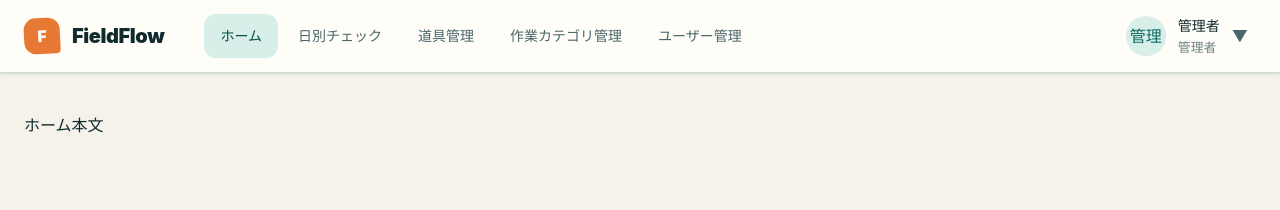
Test: AppLayout › アカウント項目の選択後に閉じ、パスワード変更へ移動する
Click the button with aria-label "アカウントメニューを開く".
click(1187, 36)  # box x1=1118 y1=10 x2=1256 y2=62
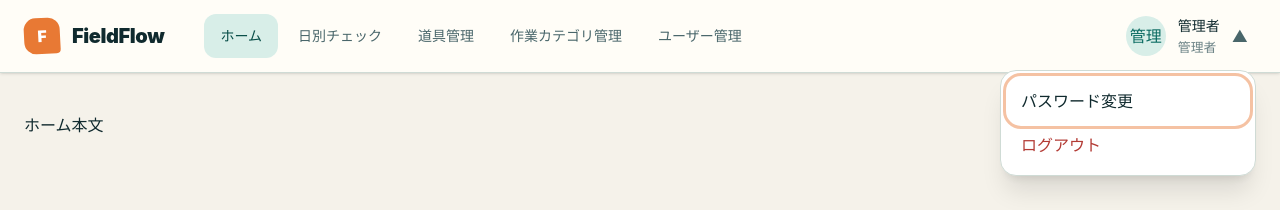
Click the link "パスワード変更".
click(1077, 101)  # box x1=1021 y1=91 x2=1133 y2=111
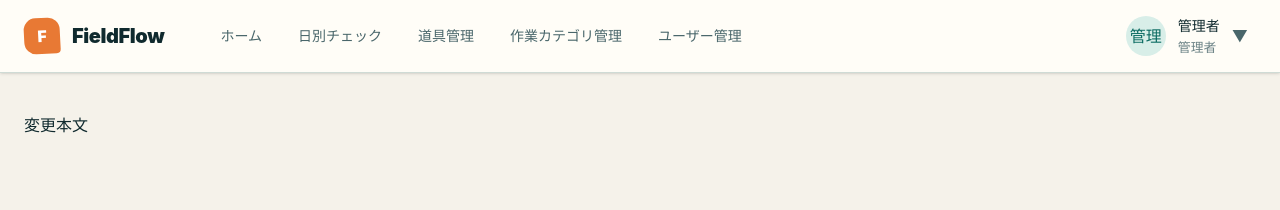
Check: the navigation bar "アカウント操作" is gone
